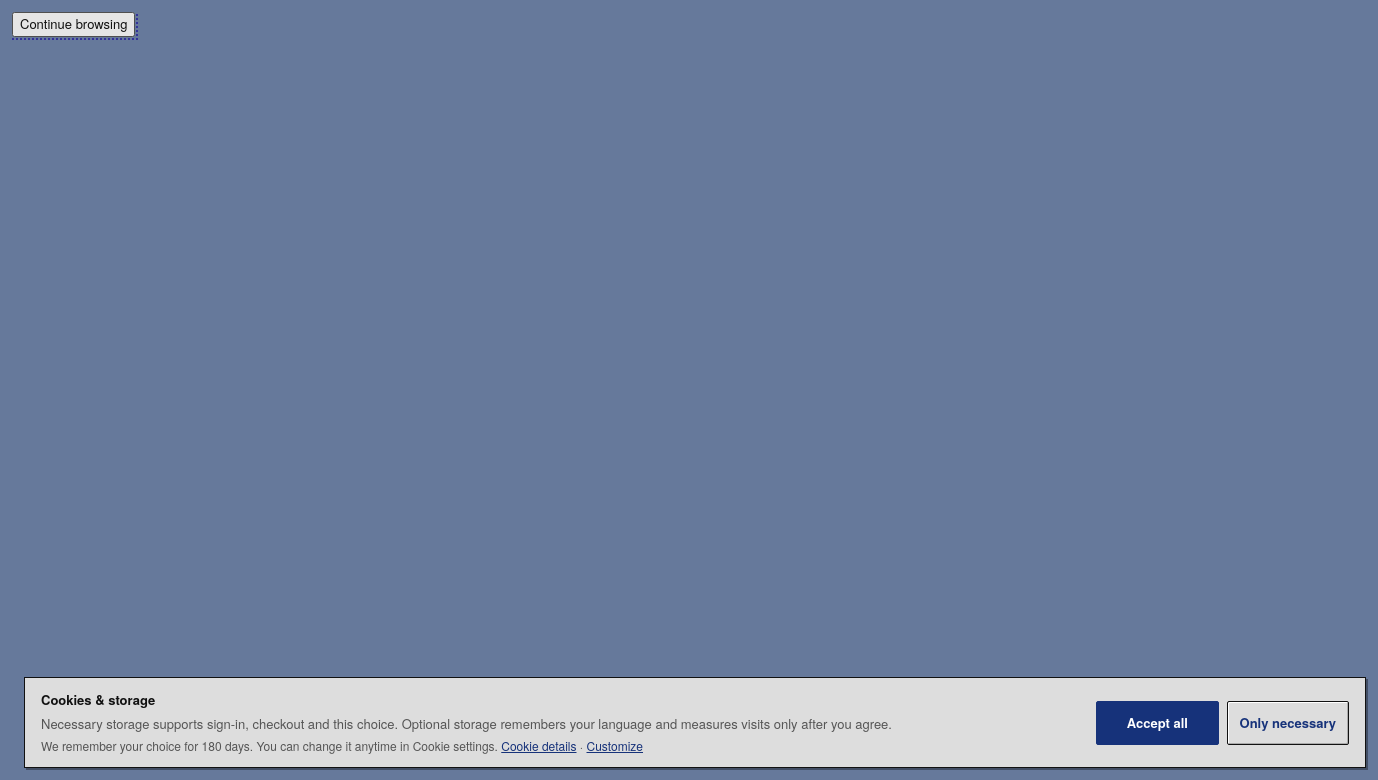
Test case: cookie choices › opens on a suggested choice that stores nothing, in a nonmodal region without moving focus
Expected: the button "Accept all" is enabled, x1=1096 y1=700 x2=1218 y2=744
Expected: the button "Only necessary" is enabled, x1=1227 y1=700 x2=1349 y2=744
Click the button "Customize": (615, 746) x1=586 y1=737 x2=643 y2=755
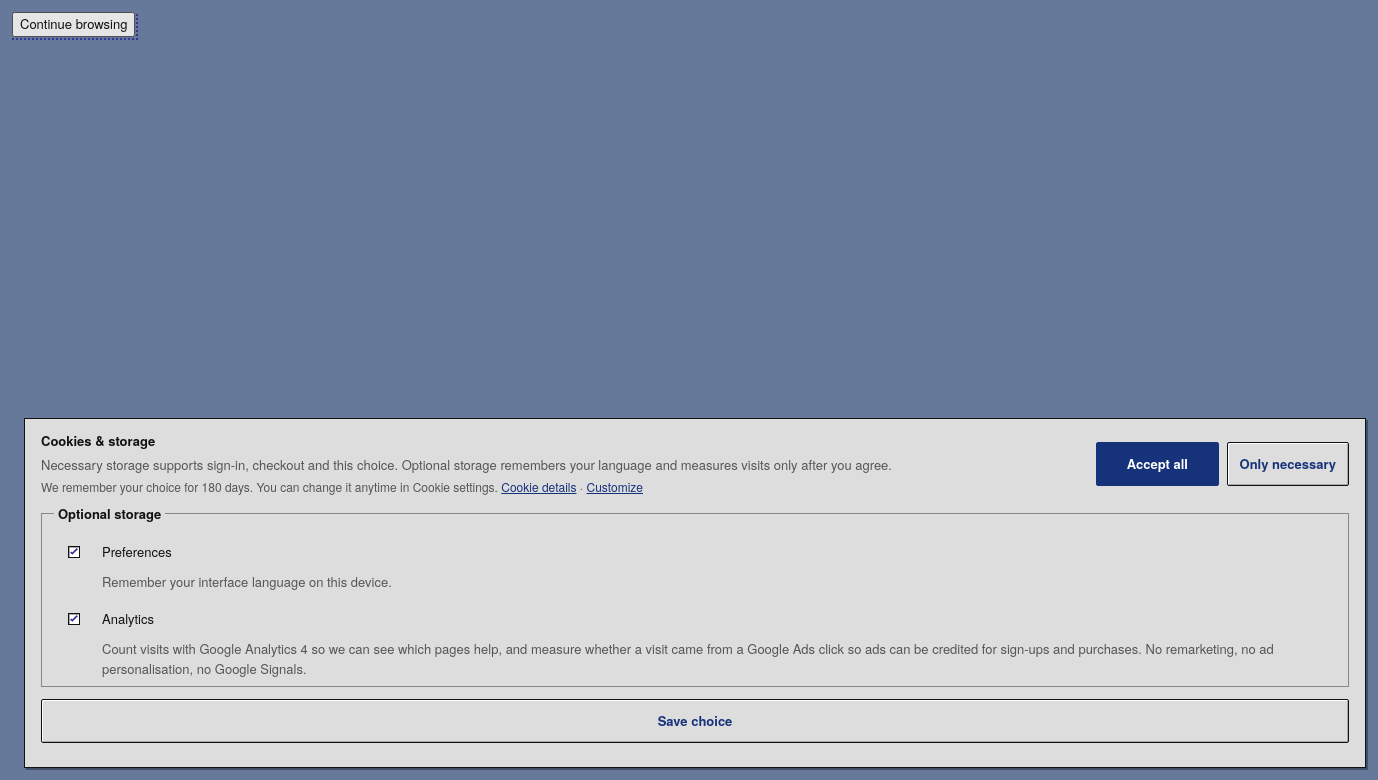
Result: the button "Customize" is expanded at x1=586 y1=478 x2=643 y2=496
Result: the checkbox labelled "Preferences" is checked at x1=68 y1=542 x2=172 y2=561
Result: the checkbox labelled "Analytics" is checked at x1=68 y1=609 x2=154 y2=628
